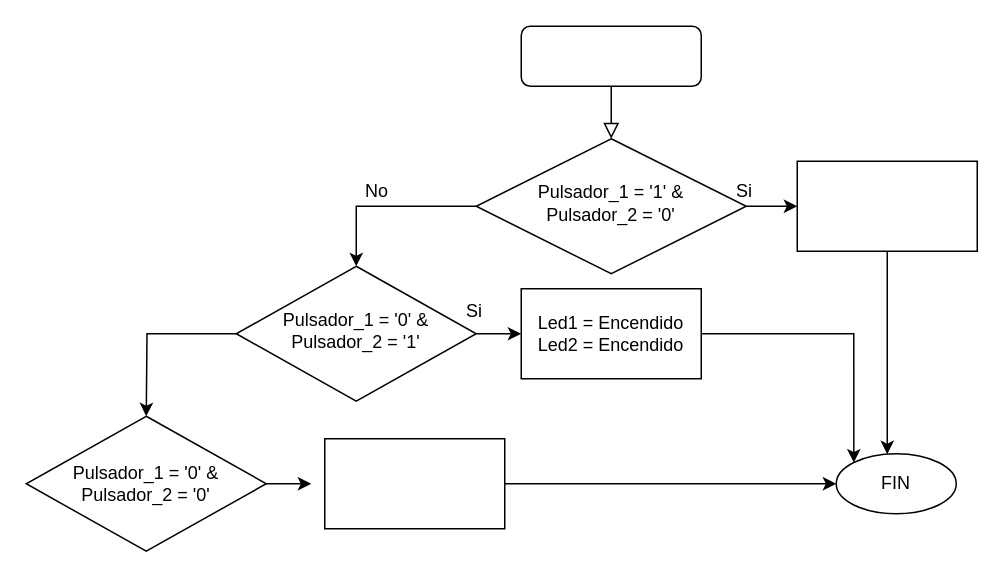
This 1004x578 diagram has some shape labels left out. Here are the shapes that lost their labels. From the top down, the centre of each, then its label:
At (610,55): "Inicio".
At (886,205): "Led1 = Encendido Led2 = Apagado".
At (414,483): "Led1 = Apagado Led2 = Apagado".
